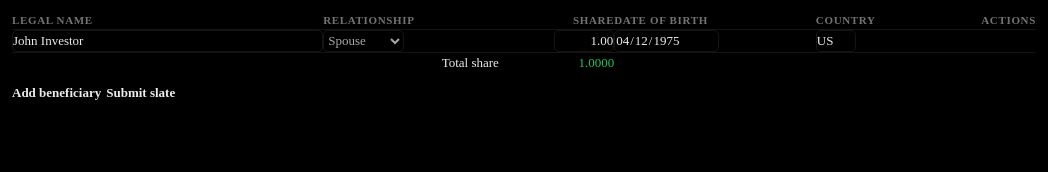
Test: BeneficiaryEditor › appends a new row when "Add beneficiary" is clicked
Click the button "Add beneficiary": (57, 92) [12,80,101,105]
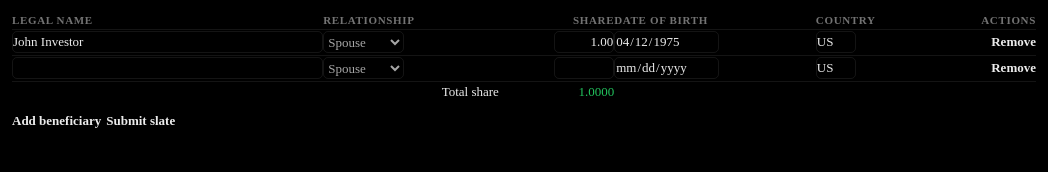
Check: the number of rows is 4, box [12,12,1036,29]; [12,29,1036,55]; [12,55,1036,81]; [12,81,1036,101]
